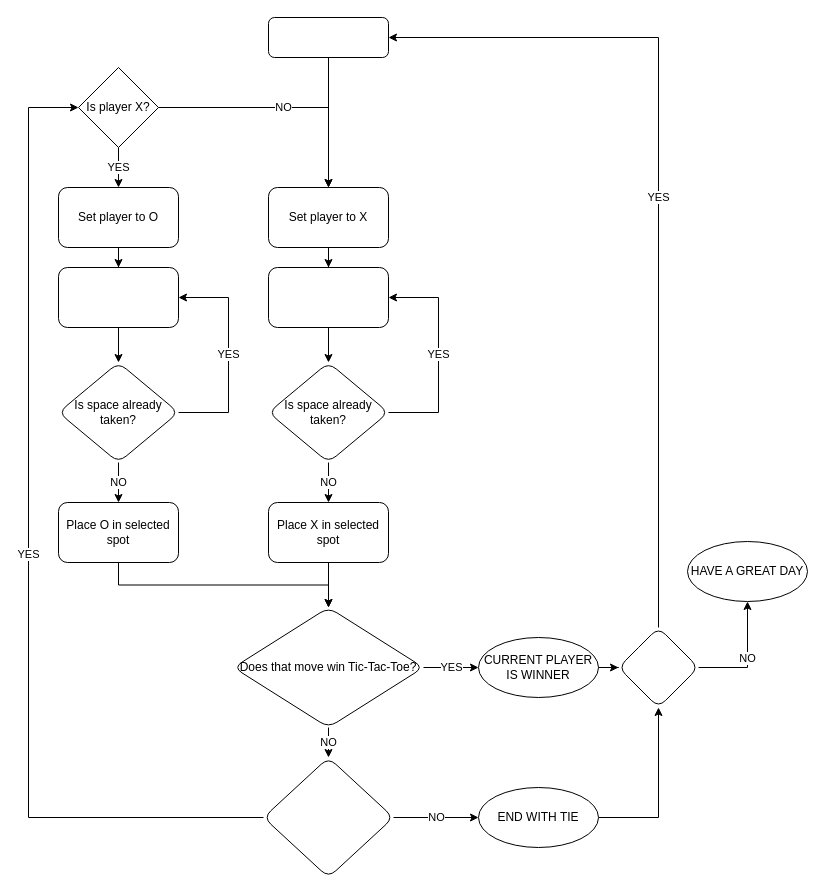
The diagram is 825 pixels wide and 895 high, and some of its shapes have lost their labels. The shapes that lost their labels are listed below. From the top down, each one's centre as x and y in pixels, then its label:
the point at 328,37: Create gameboard
the point at 118,297: O Placement is selected
the point at 328,297: X placement is selected
the point at 658,667: Play again?
the point at 328,817: Are there any free spaces left?
